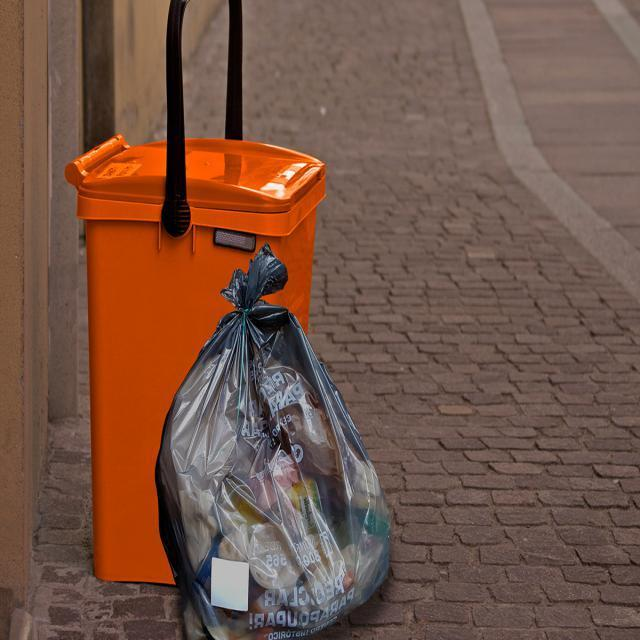Trashbag: (146, 237, 410, 640)
